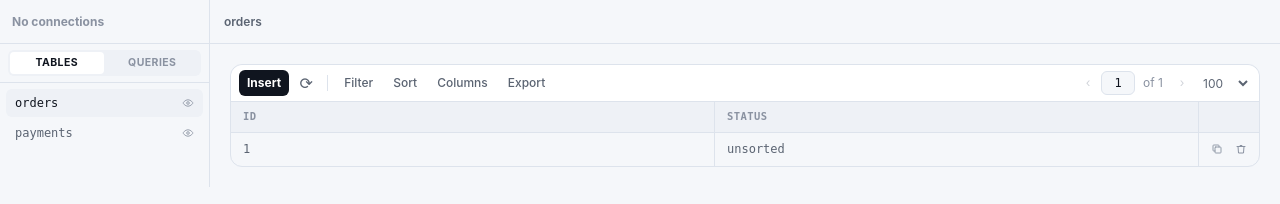
Test: DbTab › discards a slower in-flight fetch once a newer request has superseded it
The image size is (1280, 204).
Check: the text "unsorted" is shown, box [727, 142, 785, 156]
Click the button with aria-label "Sort by status".
click(747, 116)  # box [715, 102, 1173, 132]
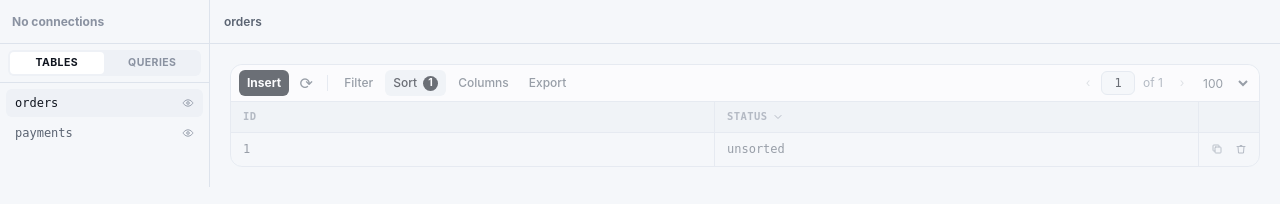
Click the button with aria-label "Sort by id".
click(250, 116)  # box [231, 102, 689, 132]
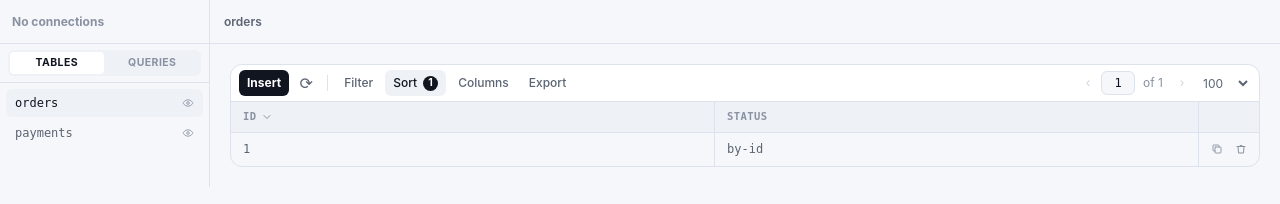
Check: the text "by-id" is shown, box [727, 142, 763, 156]
